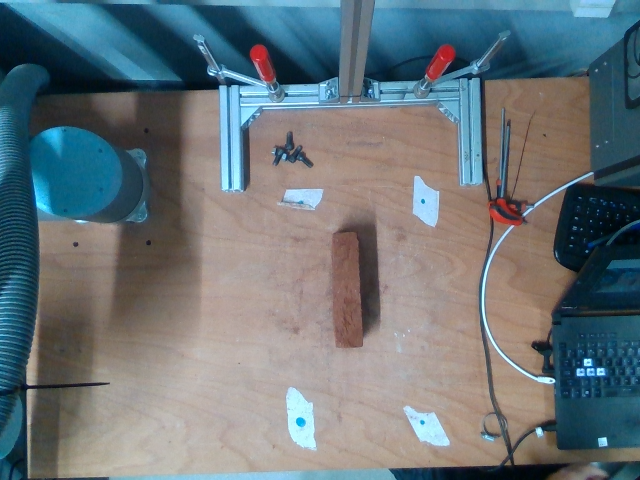brick-side: (332, 235, 361, 348)
